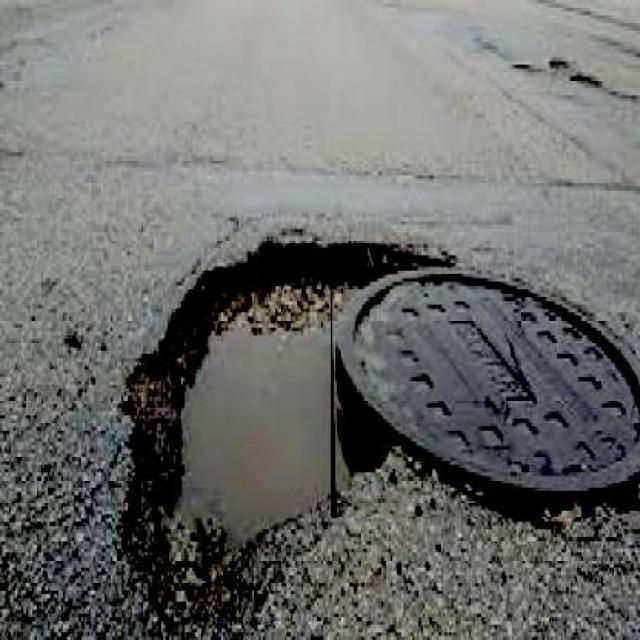Manhole: (331, 269, 640, 517)
Pothole: (101, 223, 336, 640), (333, 234, 458, 273), (333, 424, 383, 506), (572, 72, 608, 86), (508, 60, 540, 74), (548, 58, 572, 66)
